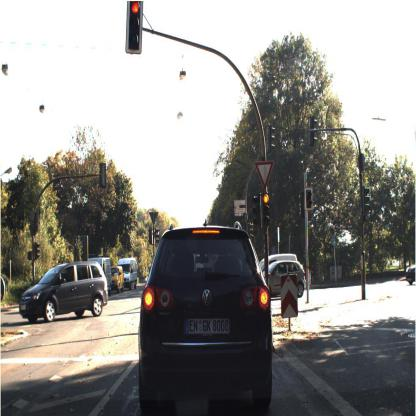other: (250, 156, 276, 191)
